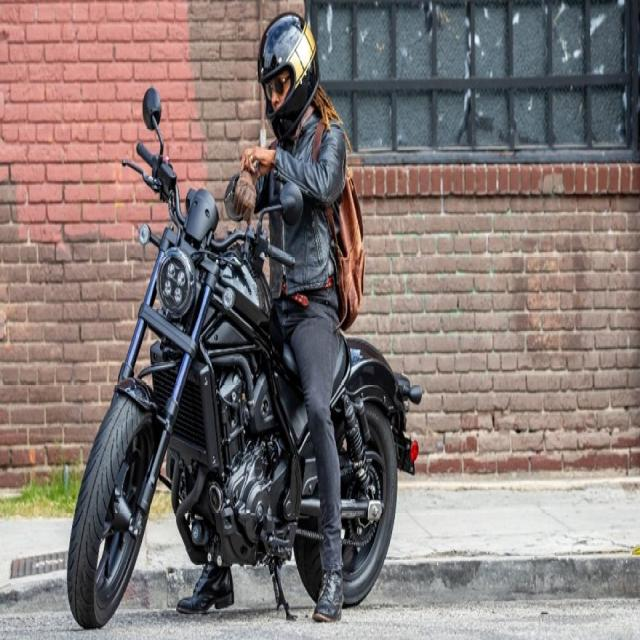Bike: (67, 145, 324, 632), (332, 337, 425, 610)
